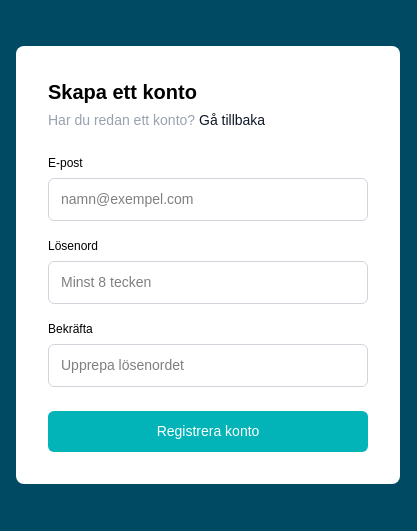
Test case: SignupPage › Shows error when email is empty on submit
Click the button "Registrera konto".
click(208, 432)  # box [48,411,368,452]
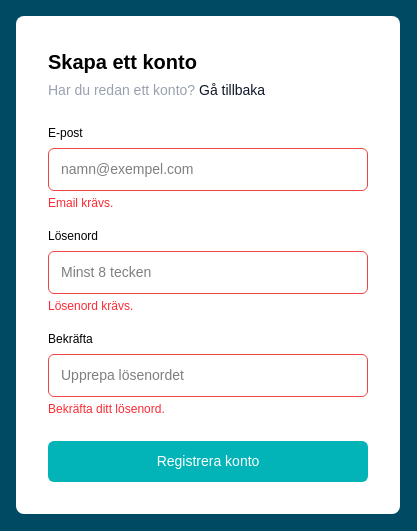
Expected: the text "Email krävs." is shown, [48,196,113,210]
